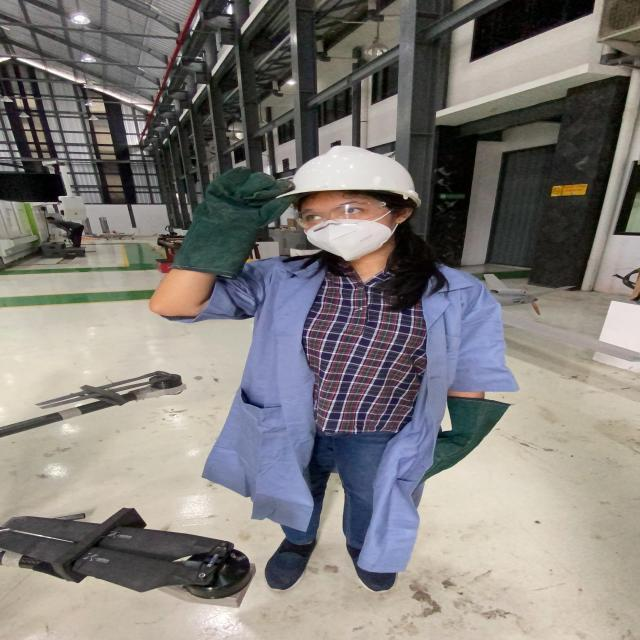glasses: (288, 196, 390, 231)
